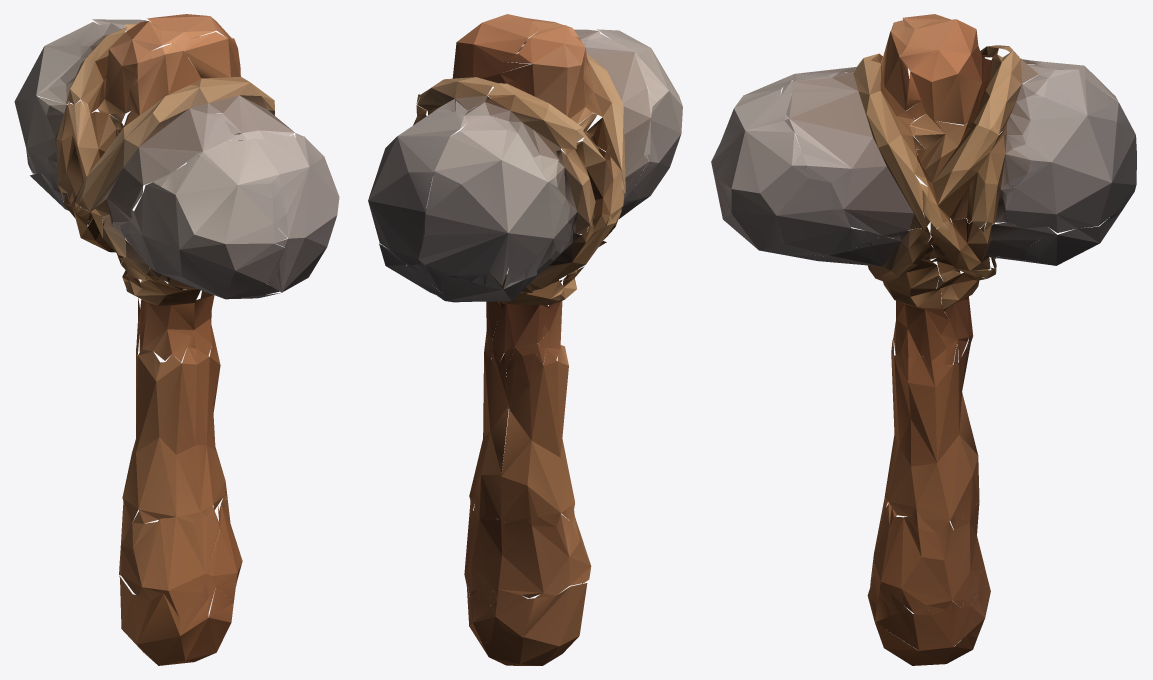
File: hammer.glb
3 renders of one model, left to right at view 1: azimuth 30°, elevation 25°; view 2: azimuth 150°, elevation 25°; view 3: azimuth 270°, elevation 25°, orthographic.
Parts seen in each view (by area): view 1: 0_hammer; view 2: 0_hammer; view 3: 0_hammer.
Part boxes in pixels (left/top/right/bottom): 0_hammer: left=14, top=14, right=339, bottom=665; 0_hammer: left=368, top=14, right=682, bottom=665; 0_hammer: left=711, top=14, right=1136, bottom=665.
Bounding box in the file's own units: 0.1678 × 0.5204 × 0.3192.
